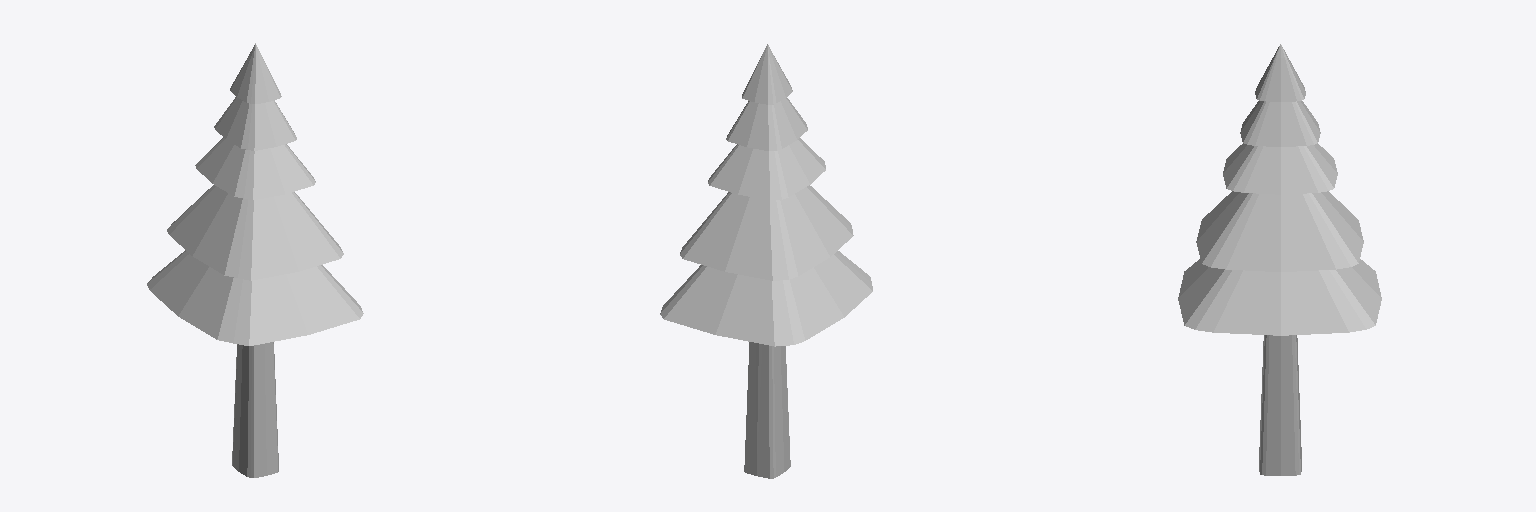
Rendered from Tree Verison 1.obj.
3 views of the same model, side by side, from view 1: azimuth 30°, elevation 25°; view 2: azimuth 150°, elevation 25°; view 3: azimuth 270°, elevation 25° (orthographic).
Visible parts, largest first — view 1: Cube.001; view 2: Cube.001; view 3: Cube.001.
Boxes of the visible parts, box(x1,y1,x2,y2) form: Cube.001: box(147, 43, 363, 477); Cube.001: box(660, 44, 872, 478); Cube.001: box(1178, 44, 1381, 475).
Bounding box in the file's own units: 1.83 × 4.8 × 2.09.